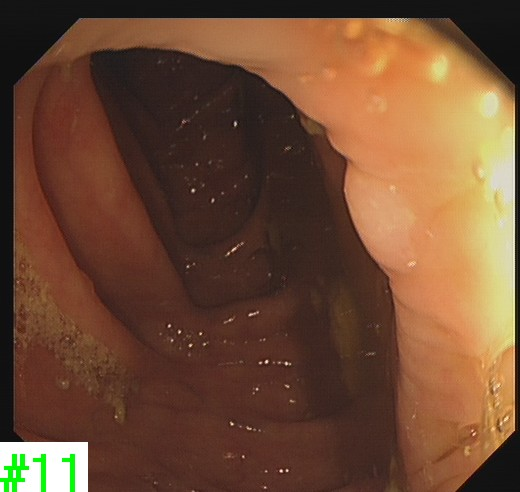others: (339, 162, 424, 275)
